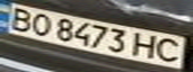3: (106, 26, 130, 55)
4: (69, 20, 93, 47)
7: (87, 22, 109, 50)
8: (51, 16, 78, 42)
B: (3, 4, 39, 33)
C: (151, 35, 187, 63)
H: (130, 30, 163, 60)
O: (24, 10, 57, 37)
